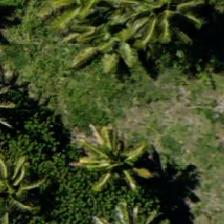Kelapa_Sawit: (77, 117, 167, 207), (119, 0, 209, 54), (0, 145, 55, 223)
